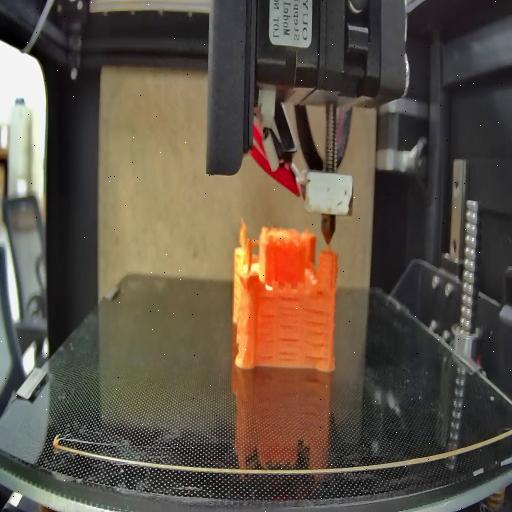cracks: (278, 297, 300, 363), (306, 308, 326, 364), (258, 290, 274, 360), (314, 288, 324, 300)
